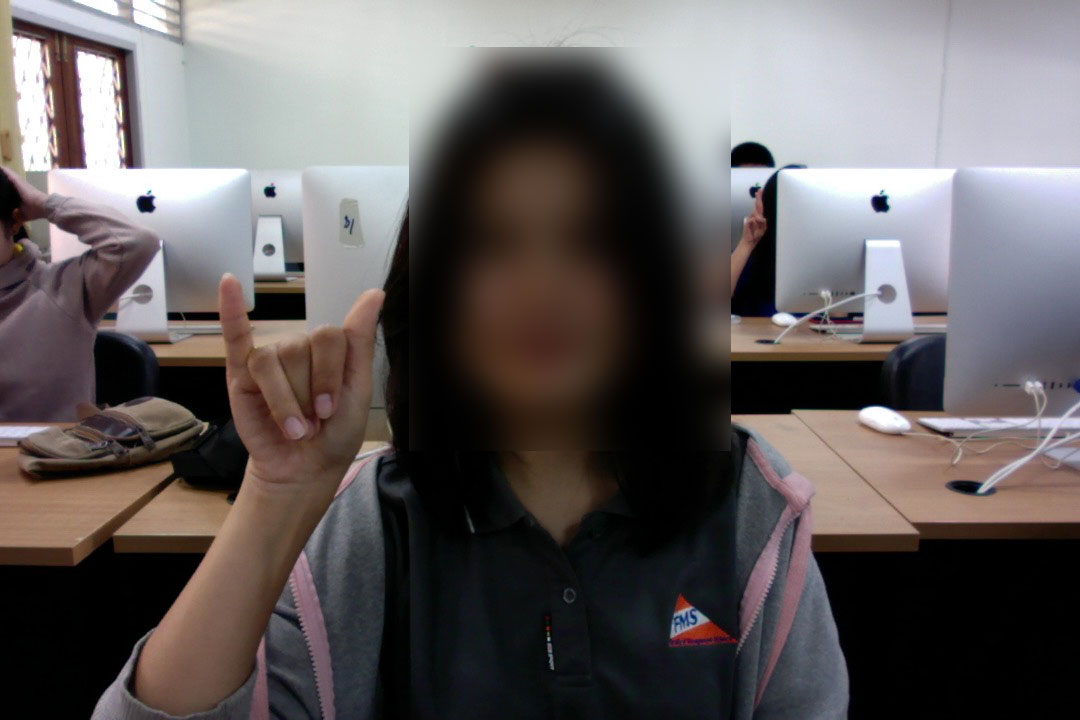yor: (210, 265, 390, 511)
